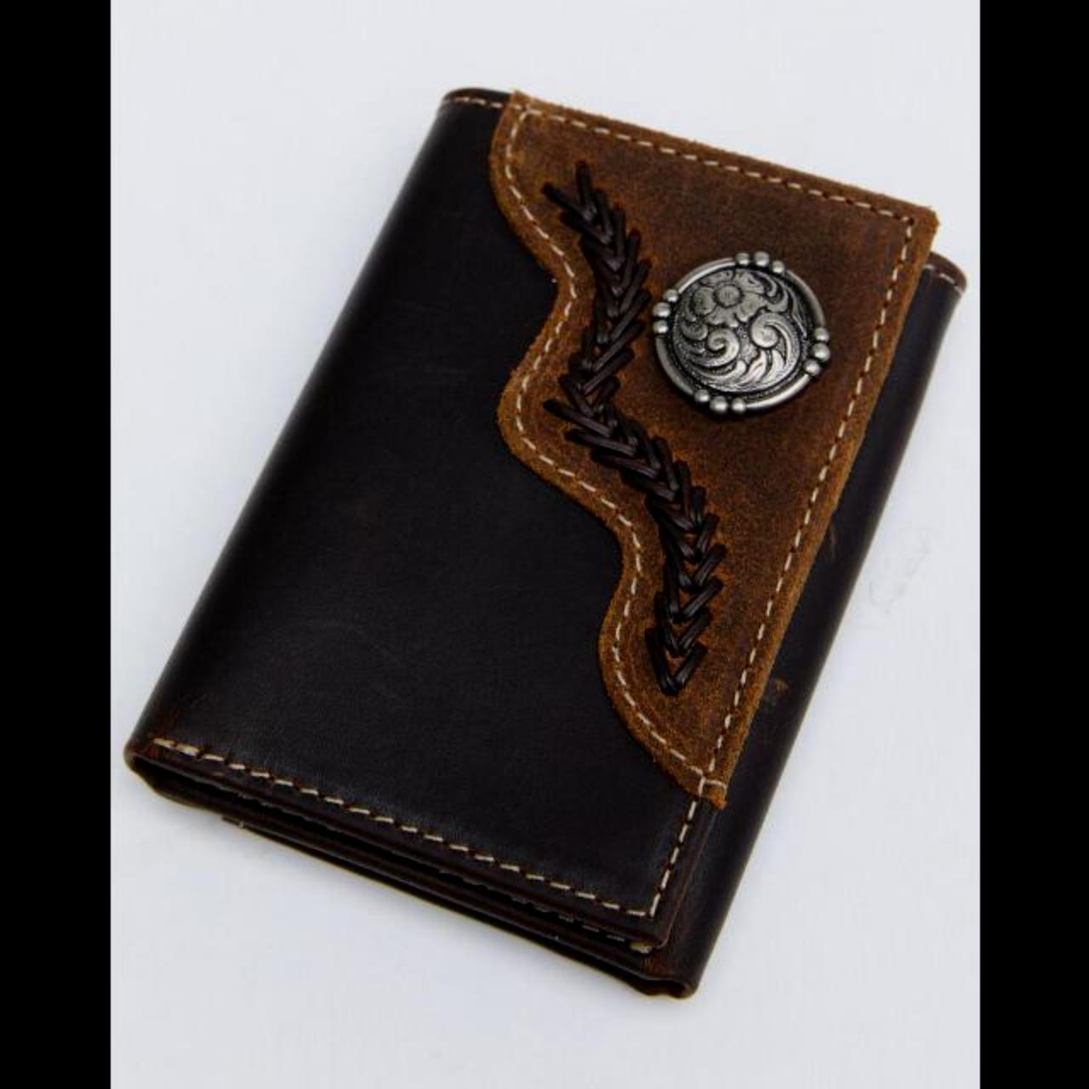wallet: (130, 58, 959, 1006)
